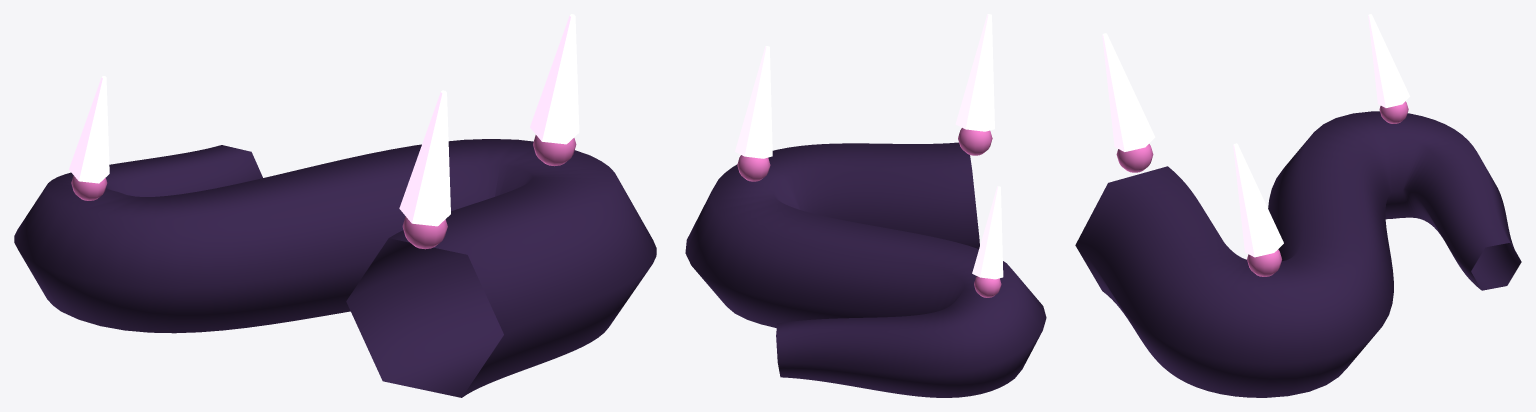
File: SM_Keeper_Apep_Body_F13.fbx
3 renders of one model, left to right at view 1: azimuth 30°, elevation 25°; view 2: azimuth 150°, elevation 25°; view 3: azimuth 270°, elevation 25°, orthographic. The views are drawn at different scales.
Parts seen in each view (by area): view 1: SM_Keeper_Apep_Body_F13; view 2: SM_Keeper_Apep_Body_F13; view 3: SM_Keeper_Apep_Body_F13.
Boxes of the visible parts, x1,y1,x2,y2 form: SM_Keeper_Apep_Body_F13: (14, 14, 656, 397); SM_Keeper_Apep_Body_F13: (685, 14, 1046, 397); SM_Keeper_Apep_Body_F13: (1075, 14, 1521, 397).
Bounding box in the file's own units: 7.08 × 4.37 × 6.55.
